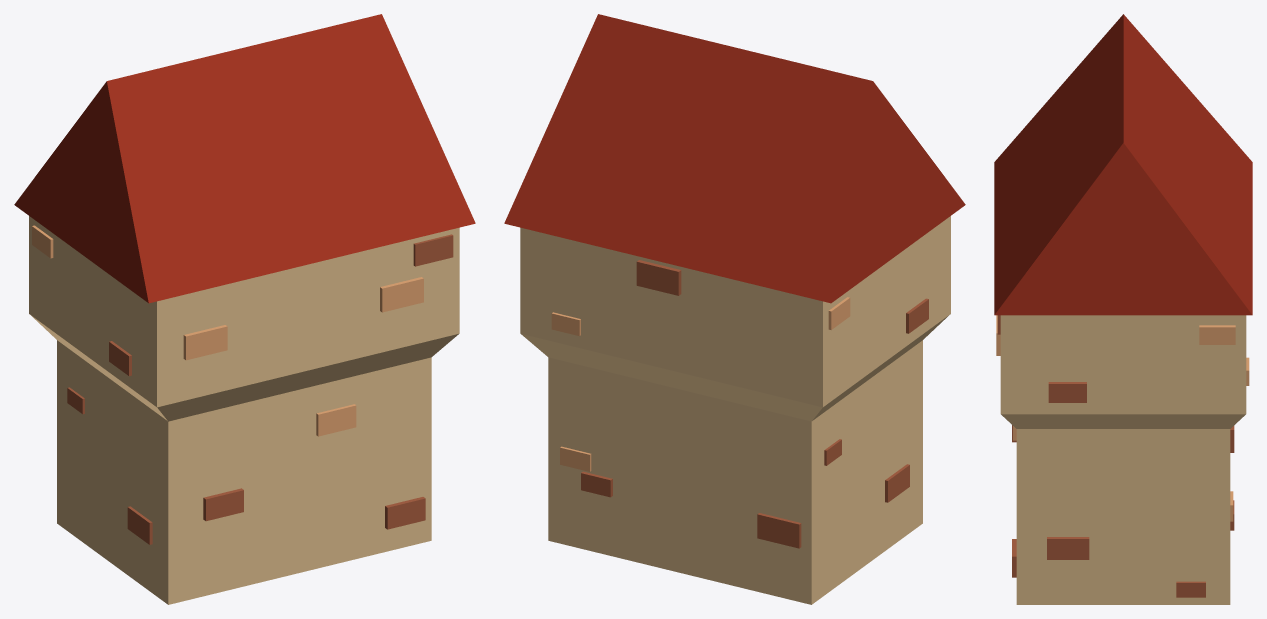
Rendered from Tower_6.glb.
3 views of the same model, side by side, from view 1: azimuth 30°, elevation 25°; view 2: azimuth 150°, elevation 25°; view 3: azimuth 270°, elevation 25° (orthographic). The views are drawn at different scales.
Parts seen in each view (by area): view 1: Tower_6; view 2: Tower_6; view 3: Tower_6.
Part boxes in pixels (box(x1,y1,x2,y2)): Tower_6: box(14, 14, 475, 604); Tower_6: box(504, 14, 965, 604); Tower_6: box(994, 14, 1252, 604).
Bounding box in the file's own units: 2.23 × 3.16 × 1.59.
